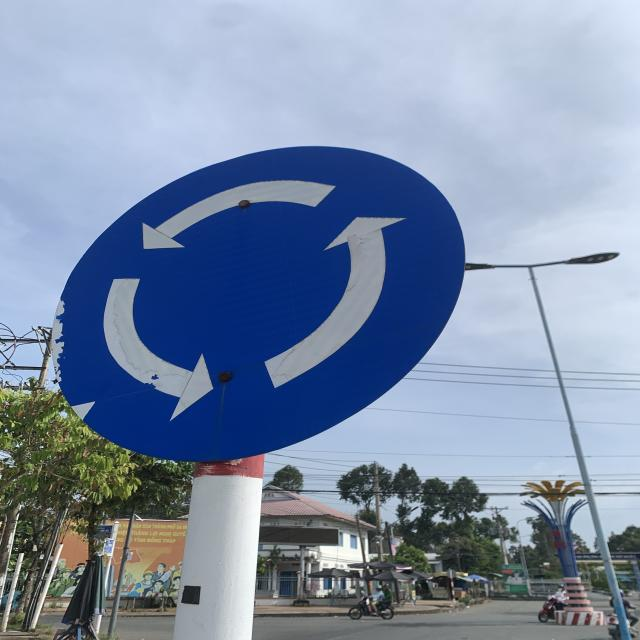Xe_Bus: (54, 144, 464, 464)
